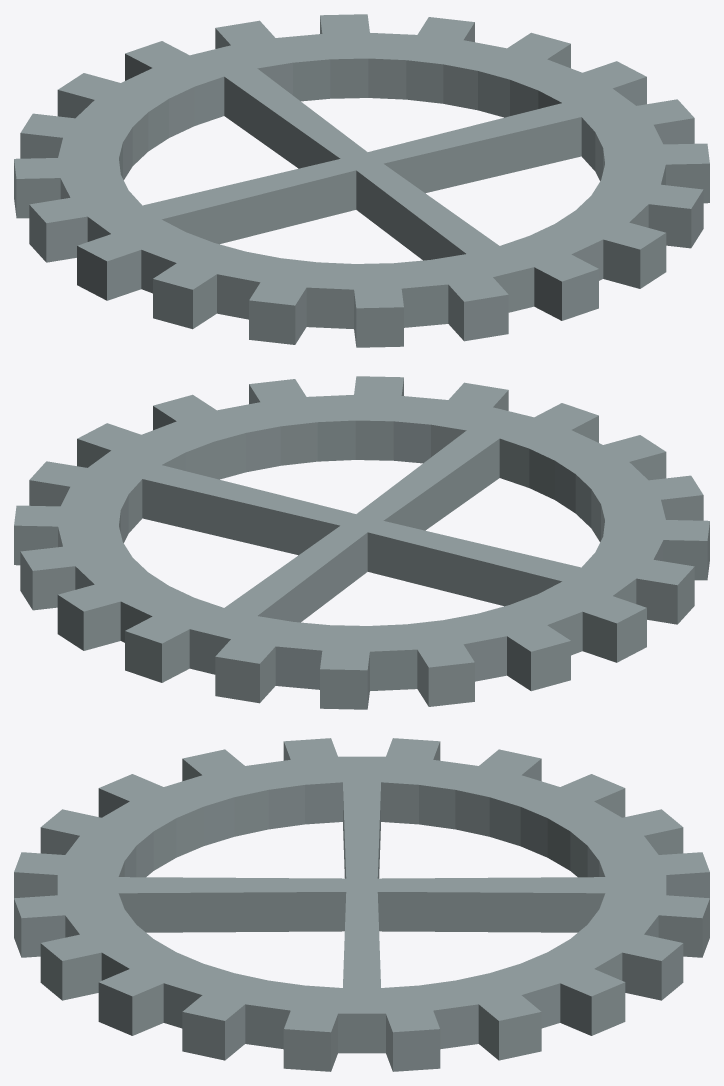
The model's file is RMirror_GearBig.fbx.
3 views of the same model, one above another, from view 1: azimuth 30°, elevation 25°; view 2: azimuth 150°, elevation 25°; view 3: azimuth 270°, elevation 25° (orthographic).
Visible parts, largest first — view 1: Cylinder; view 2: Cylinder; view 3: Cylinder.
Part boxes in pixels (left/top/right/bottom): Cylinder: left=14, top=14, right=709, bottom=347; Cylinder: left=14, top=376, right=709, bottom=709; Cylinder: left=14, top=738, right=709, bottom=1071.
Bounding box in the file's own units: 93.65 × 5.88 × 93.65.
